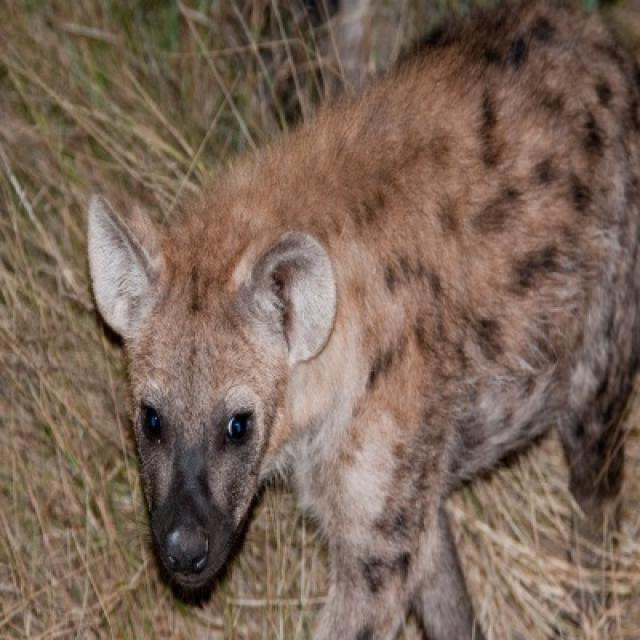hyena: (90, 0, 638, 638)
